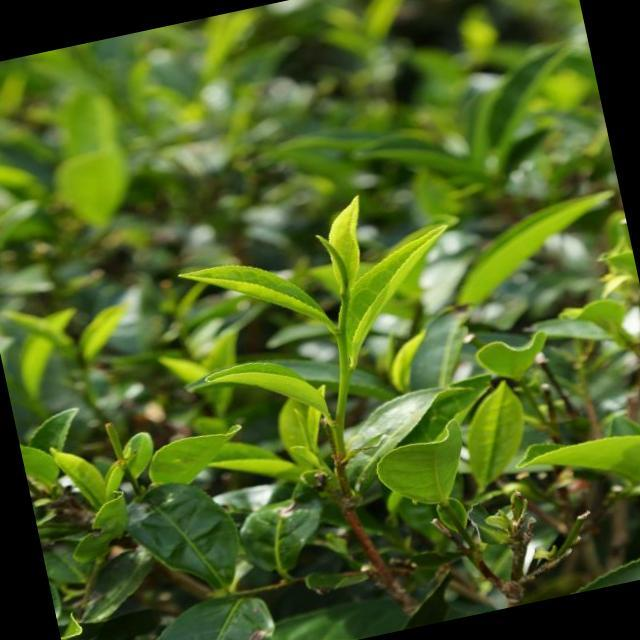Stem: (336, 328, 345, 339)
